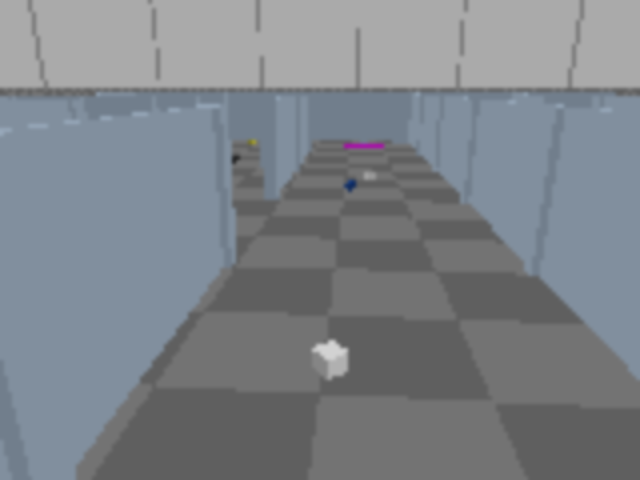puck: (312, 340, 350, 380)
